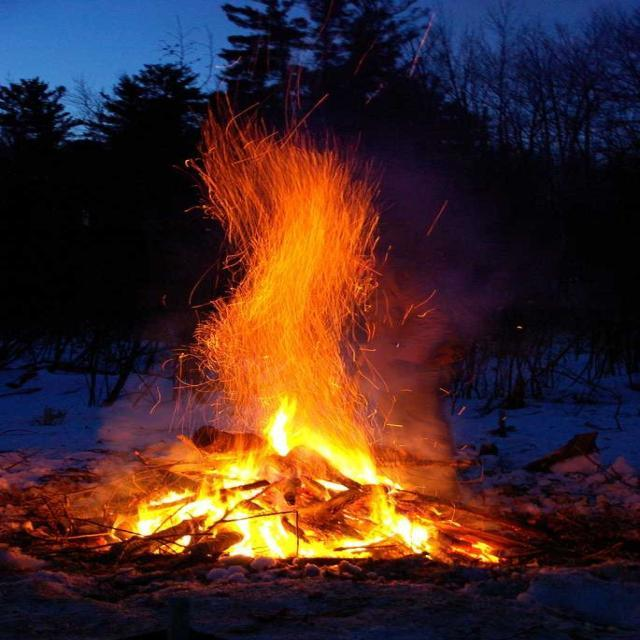Fire: (226, 145, 350, 446), (140, 454, 319, 555), (337, 454, 440, 560)
